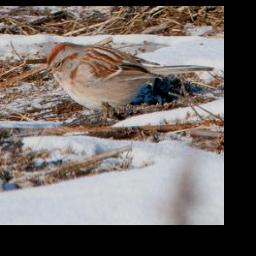Sparrow: (42, 40, 213, 126)
